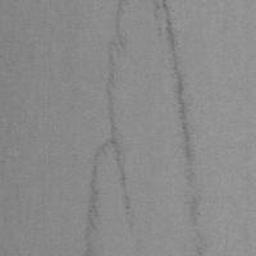Inclusion: (82, 0, 134, 256), (151, 0, 196, 157), (188, 193, 205, 224), (193, 244, 207, 256)
